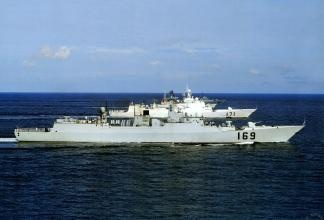warship: (11, 106, 310, 148), (106, 89, 259, 116)
